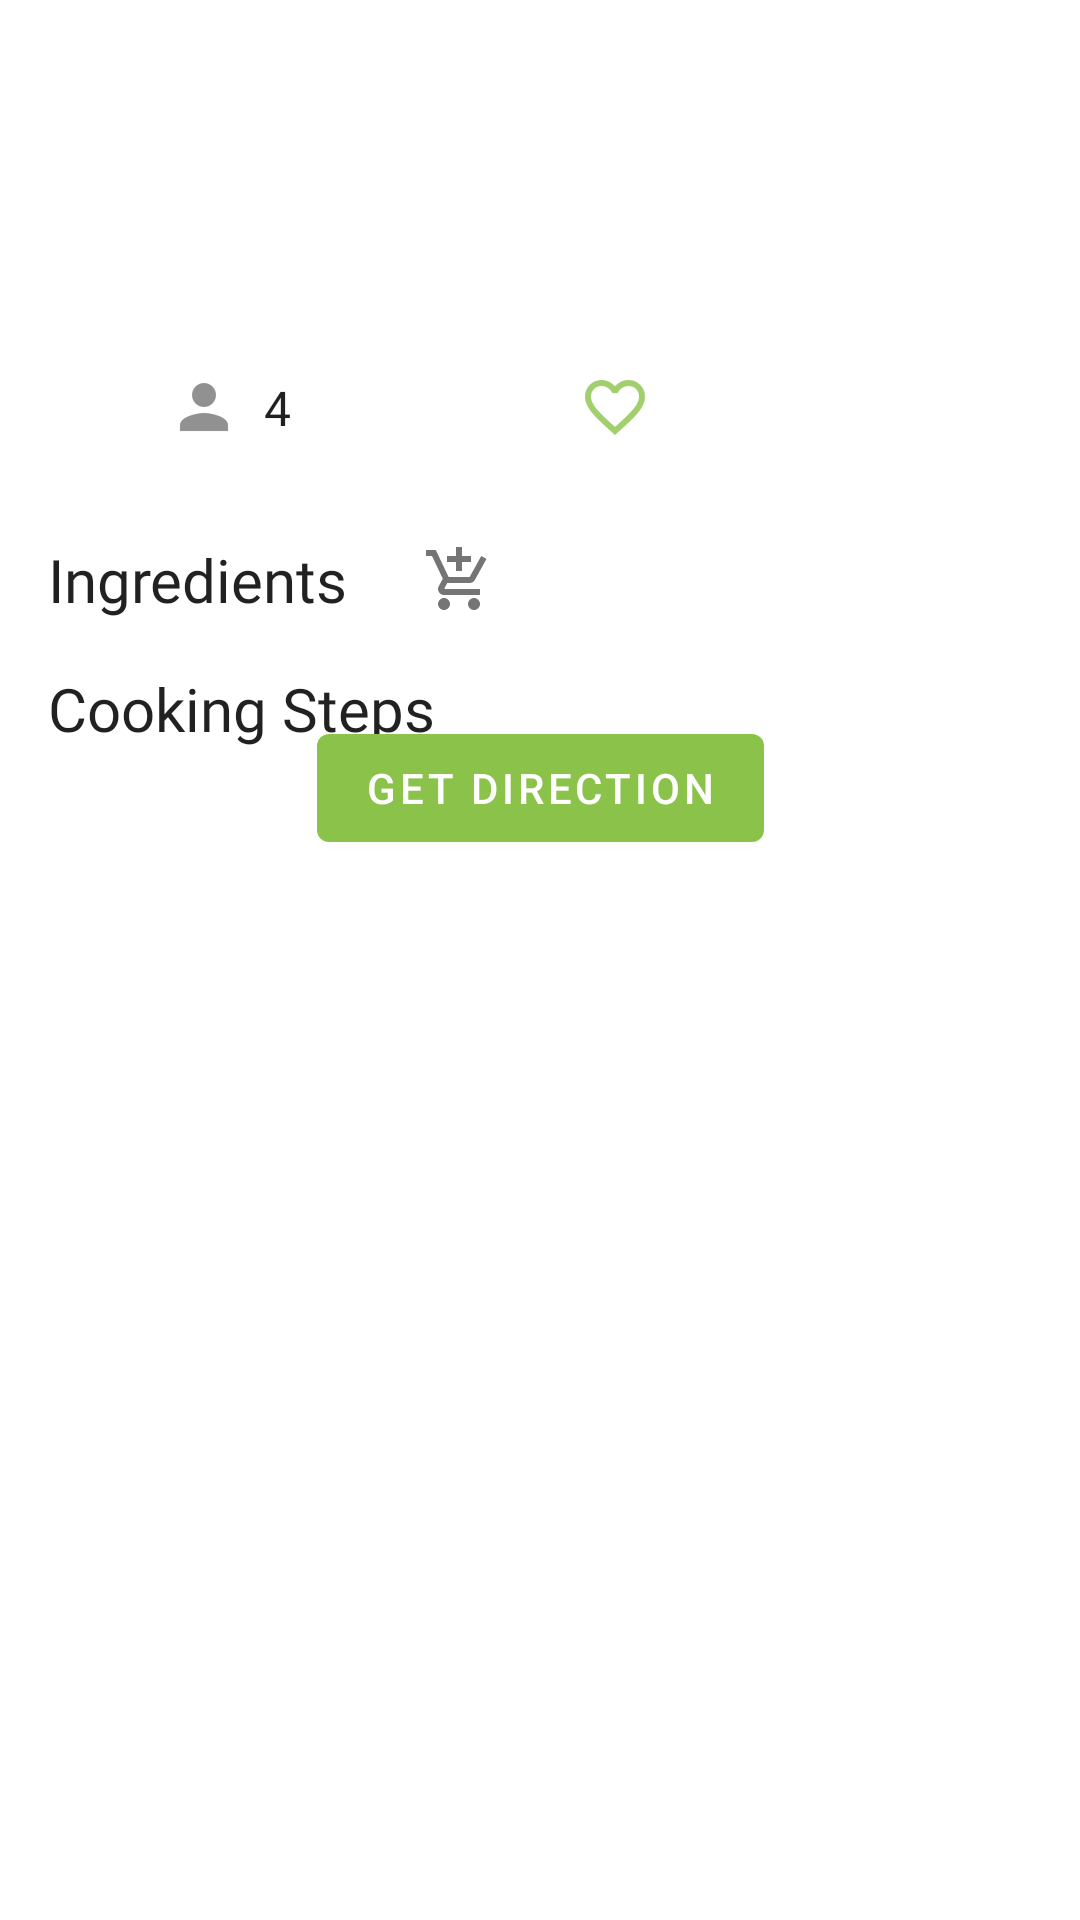

Locate icon controls on the screen. Image size 1080w x 1920h, boxes as (x1, y1, x2, y2).
cart: (426, 547, 486, 610)
favourite: (585, 380, 645, 435)
person: (180, 383, 228, 431)
